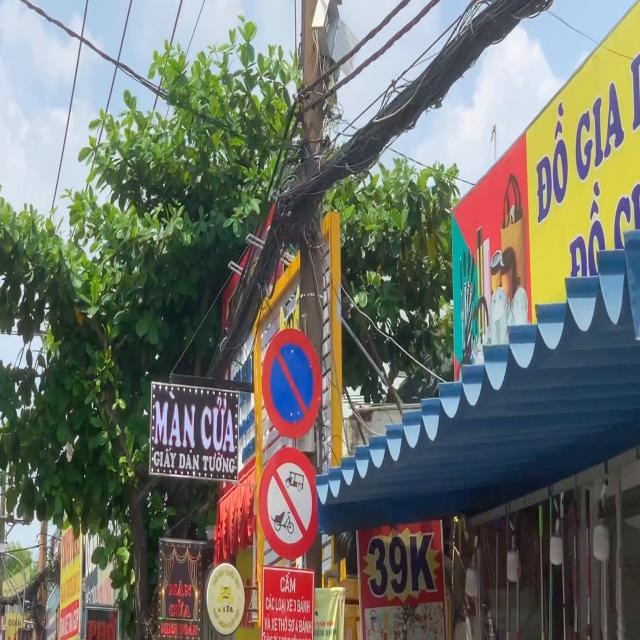Cam do: (260, 323, 324, 446)
